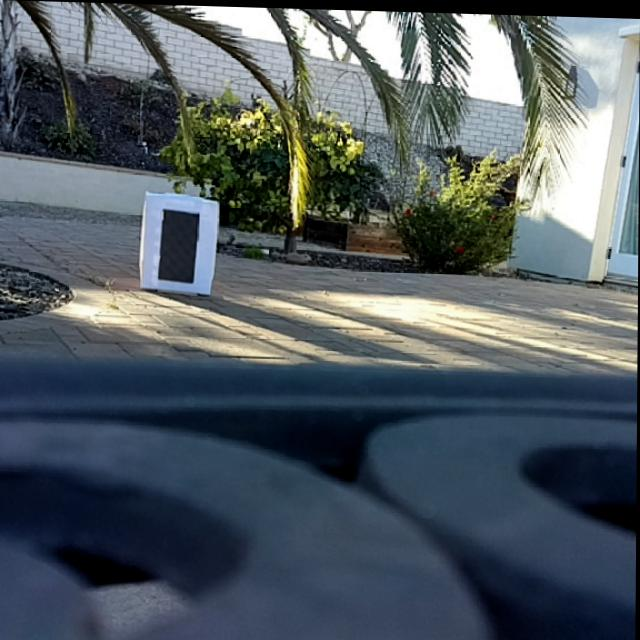led: (163, 209, 197, 284)
